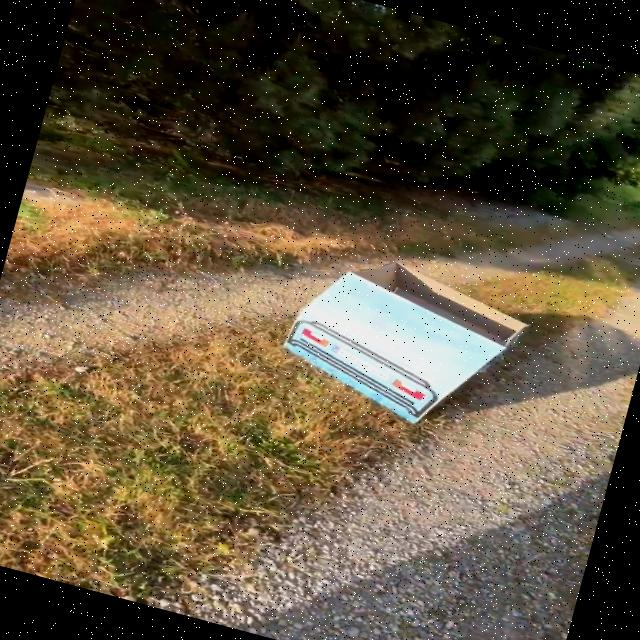blue_car: (230, 215, 569, 468)
